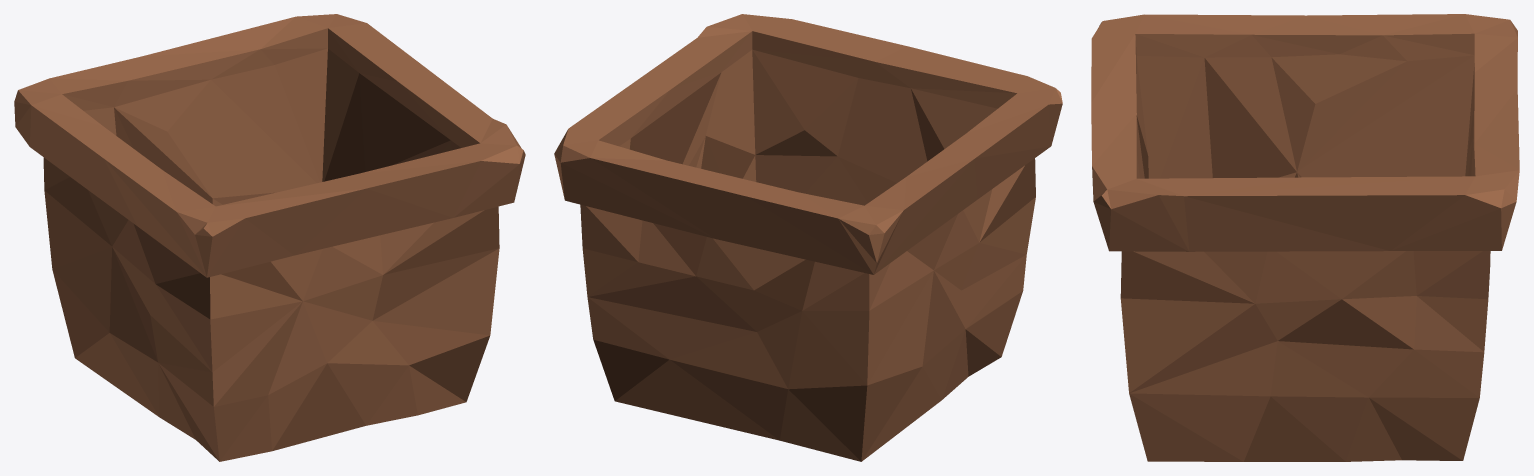
The model's file is Pot.fbx.
3 views of the same model, side by side, from view 1: azimuth 30°, elevation 25°; view 2: azimuth 150°, elevation 25°; view 3: azimuth 270°, elevation 25° (orthographic). The views are drawn at different scales.
Visible parts, largest first — view 1: Roses6; view 2: Roses6; view 3: Roses6.
Part boxes in pixels (bbox=[...]): Roses6: bbox=[14, 14, 525, 461]; Roses6: bbox=[554, 14, 1062, 461]; Roses6: bbox=[1091, 14, 1519, 461].
Bounding box in the file's own units: 22.72 × 17.14 × 22.69.
Materials: 1 (1 with a texture image).
